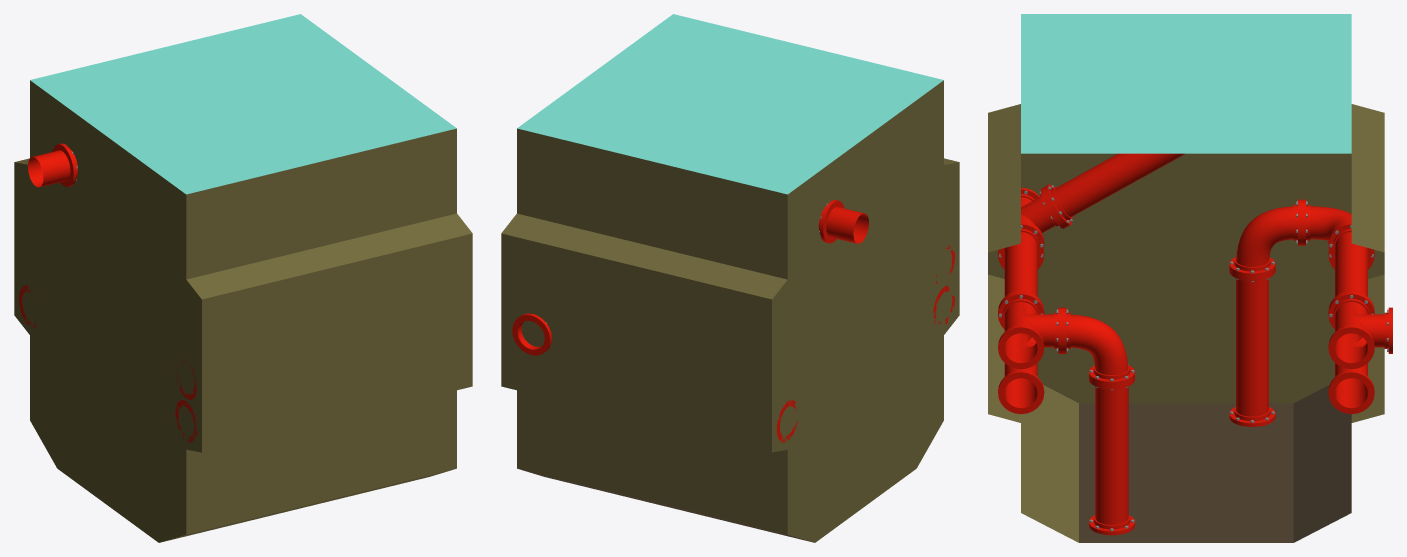
Rendered from Dead_End_.fbx.
3 views of the same model, side by side, from view 1: azimuth 30°, elevation 25°; view 2: azimuth 150°, elevation 25°; view 3: azimuth 270°, elevation 25° (orthographic). The views are drawn at different scales.
Visible parts, largest first — view 1: Dead_End_, Pipe_200_Corner.011; view 2: Dead_End_, Pipe_200_Corner.011, Pipe_200_T.002; view 3: Dead_End_, Pipe_200_Straight_2m.011, Pipe_200_Straight_2m.010, Pipe_200_Straight_2m.012, Pipe_200_T.003, Pipe_200_T.002, Pipe_200_Corner.010, Pipe_200_Corner.009, Pipe_200_Straight_2m.009, Pipe_200_Straight_2m.008, Pipe_200_Straight_1m.011, Pipe_200_Straight_1m.004 (+2 smaller).
Boxes of the visible parts, bbox=[...] form: Dead_End_: bbox=[14, 14, 472, 542]; Pipe_200_Corner.011: bbox=[28, 143, 77, 187]; Dead_End_: bbox=[501, 14, 959, 542]; Pipe_200_Corner.011: bbox=[818, 200, 868, 243]; Pipe_200_T.002: bbox=[512, 313, 552, 355]; Dead_End_: bbox=[988, 14, 1384, 542]; Pipe_200_Straight_2m.011: bbox=[1089, 377, 1134, 535]; Pipe_200_Straight_2m.010: bbox=[1229, 268, 1275, 426]; Pipe_200_Straight_2m.012: bbox=[1044, 153, 1184, 226]; Pipe_200_T.003: bbox=[998, 292, 1062, 369]; Pipe_200_T.002: bbox=[1328, 292, 1392, 369]; Pipe_200_Corner.010: bbox=[1062, 307, 1134, 385]; Pipe_200_Corner.009: bbox=[1229, 199, 1301, 277]; Pipe_200_Straight_2m.009: bbox=[998, 222, 1044, 312]; Pipe_200_Straight_2m.008: bbox=[1328, 222, 1374, 312]; Pipe_200_Straight_1m.011: bbox=[998, 250, 1044, 414]; Pipe_200_Straight_1m.004: bbox=[1328, 250, 1374, 414].
Size of the model in its own units: 2.25 by 2.6 by 2.45.
